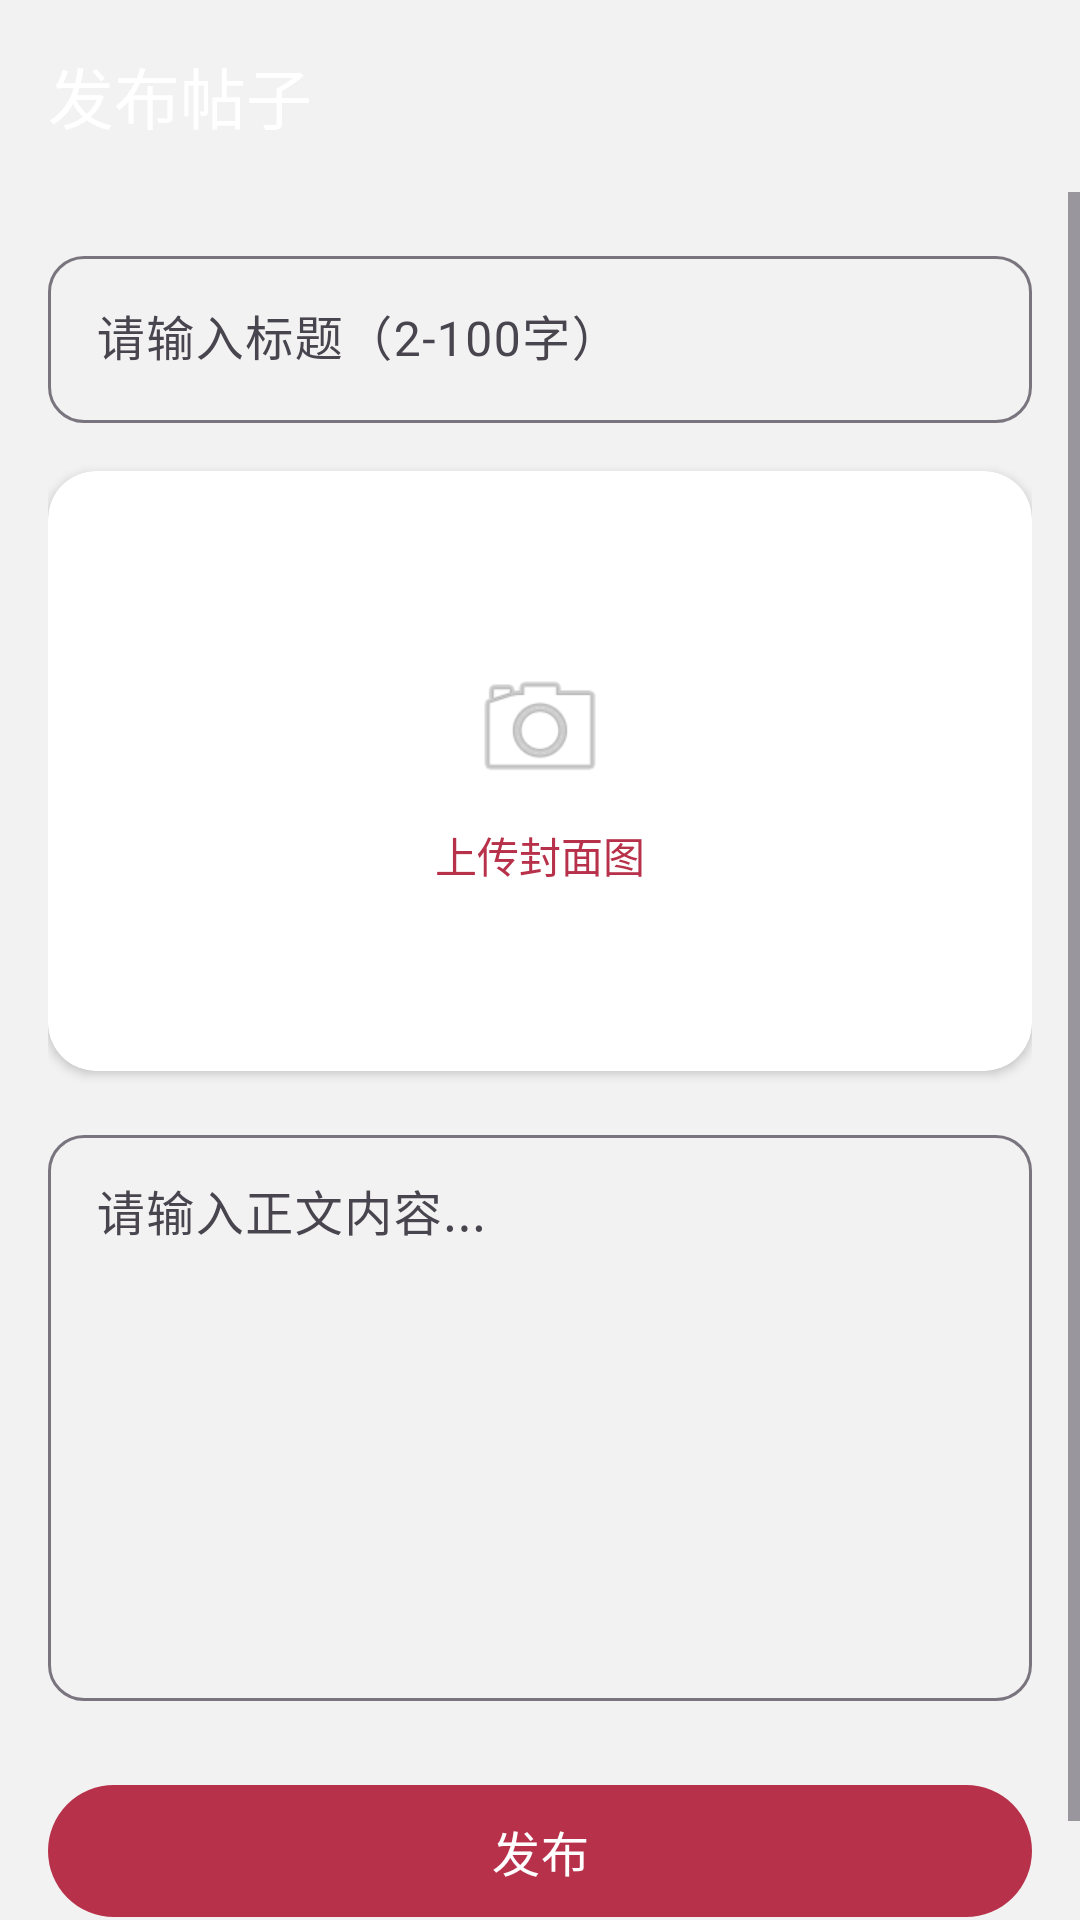

Named icons in this screenshot (1080 x 1920) and their centers, (x,y):
camera: (540,726)
